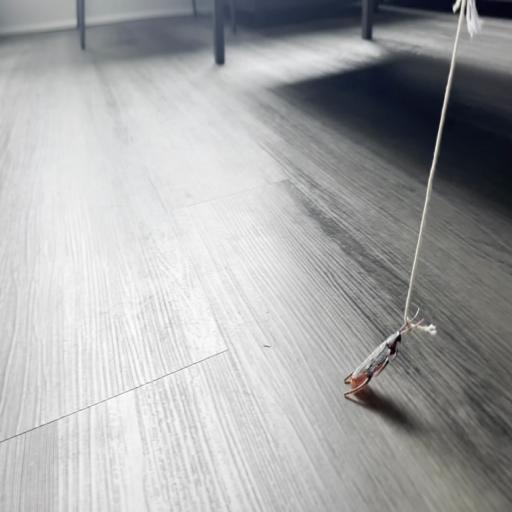cockroach: (343, 308, 419, 398)
